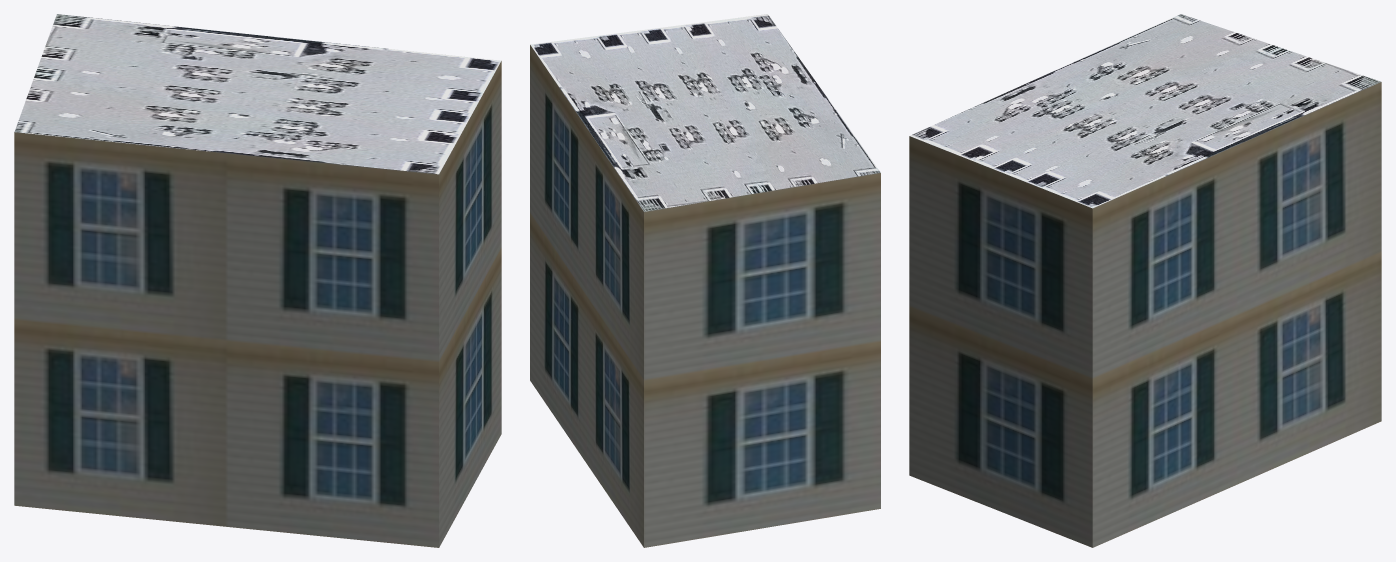
File: ResTex__4854.fbx
The picture shows the model from 3 angles, left to right: view 1: azimuth 30°, elevation 25°; view 2: azimuth 150°, elevation 25°; view 3: azimuth 270°, elevation 25°; orthographic projection. The views are drawn at different scales.
Visible parts, largest first — view 1: CityEngineMaterial_7_m, CityEngineMaterial_8_m; view 2: CityEngineMaterial_7_m, CityEngineMaterial_8_m; view 3: CityEngineMaterial_7_m, CityEngineMaterial_8_m.
Boxes of the visible parts, bbox=[...] form: CityEngineMaterial_7_m: bbox=[14, 61, 501, 547]; CityEngineMaterial_8_m: bbox=[14, 14, 500, 174]; CityEngineMaterial_7_m: bbox=[530, 45, 880, 547]; CityEngineMaterial_8_m: bbox=[530, 14, 880, 211]; CityEngineMaterial_7_m: bbox=[909, 82, 1381, 547]; CityEngineMaterial_8_m: bbox=[910, 14, 1381, 208].
Bounding box in the file's own units: 7.37 × 6 × 7.56.
2 materials, 2 textured.
